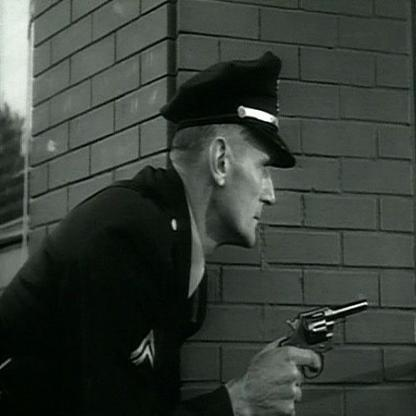gun: (283, 287, 374, 359)
